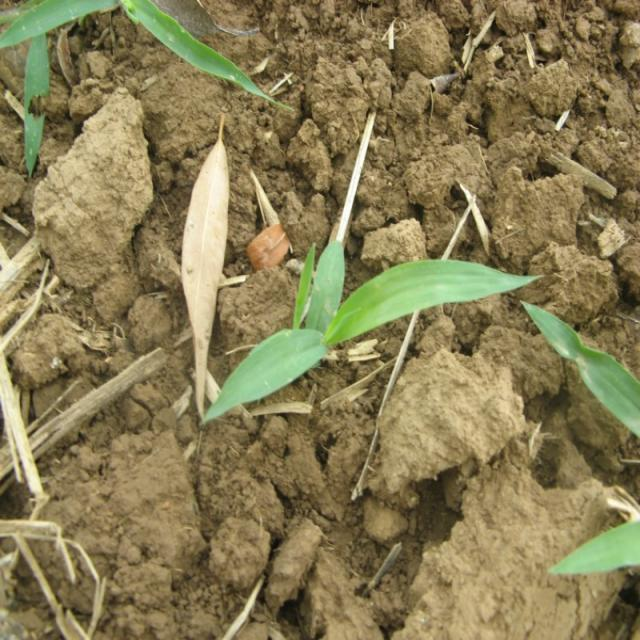bg: (224, 238, 532, 390)
